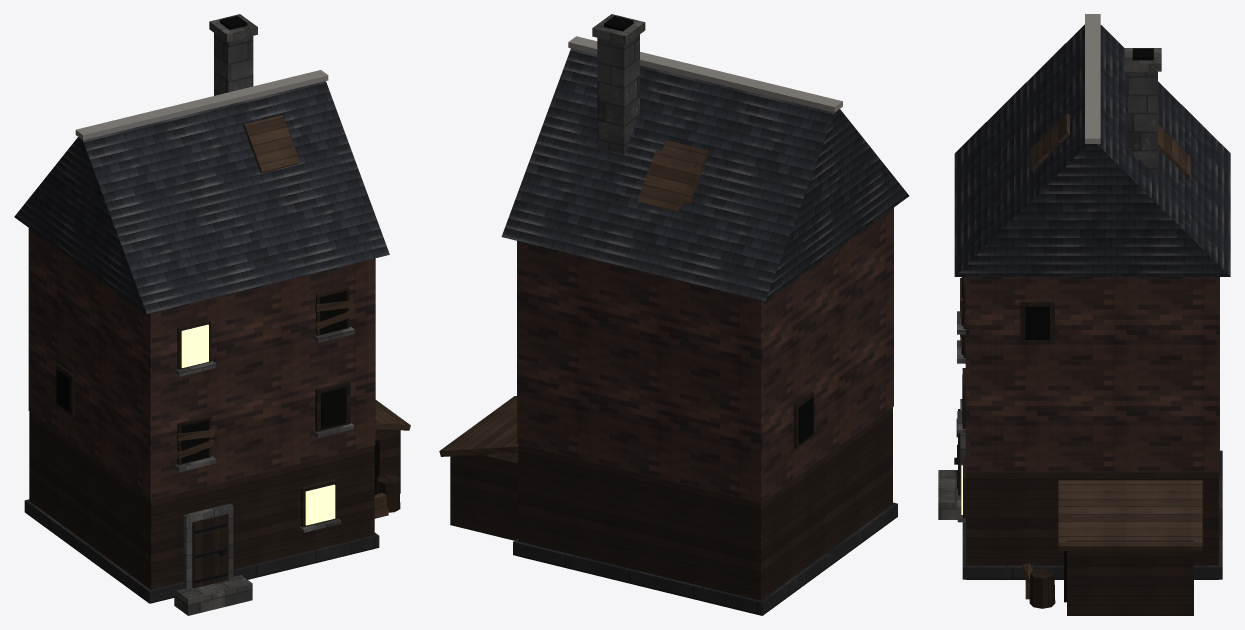
File: CasaS08.gltf
3 renders of one model, left to right at view 1: azimuth 30°, elevation 25°; view 2: azimuth 150°, elevation 25°; view 3: azimuth 270°, elevation 25°, orthographic. The views are drawn at different scales.
Visible parts, largest first — view 1: CasaS08; view 2: CasaS08; view 3: CasaS08.
Boxes of the visible parts, box(x1,y1,x2,y2) form: CasaS08: box(14, 14, 410, 615); CasaS08: box(439, 14, 909, 615); CasaS08: box(938, 14, 1230, 615).
Bounding box in the file's own units: 9.33 × 13.79 × 7.21.
Materials: 11 (7 with a texture image).
